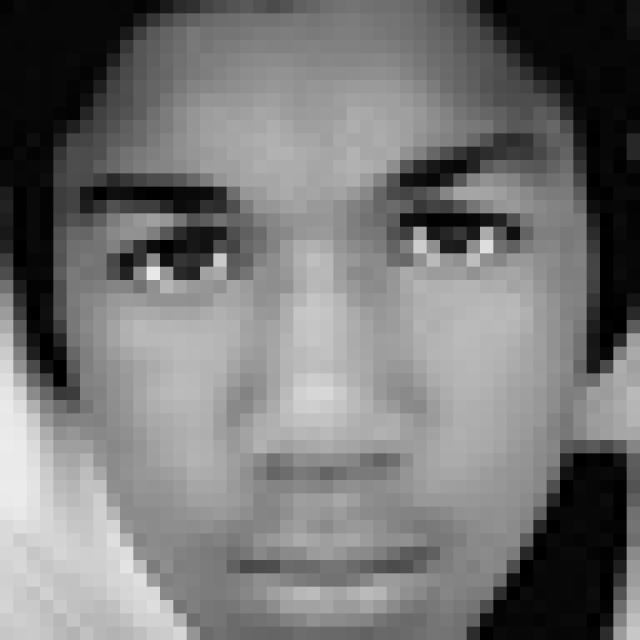neutral: (65, 130, 548, 640)
